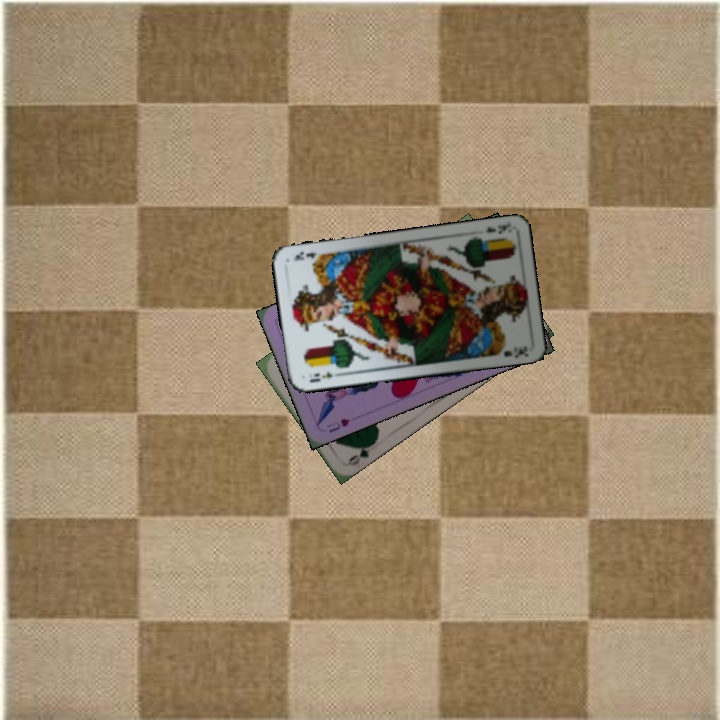EK: (481, 219, 513, 237), (305, 367, 335, 385)
GO: (344, 436, 379, 469)
HU: (323, 414, 352, 435)
